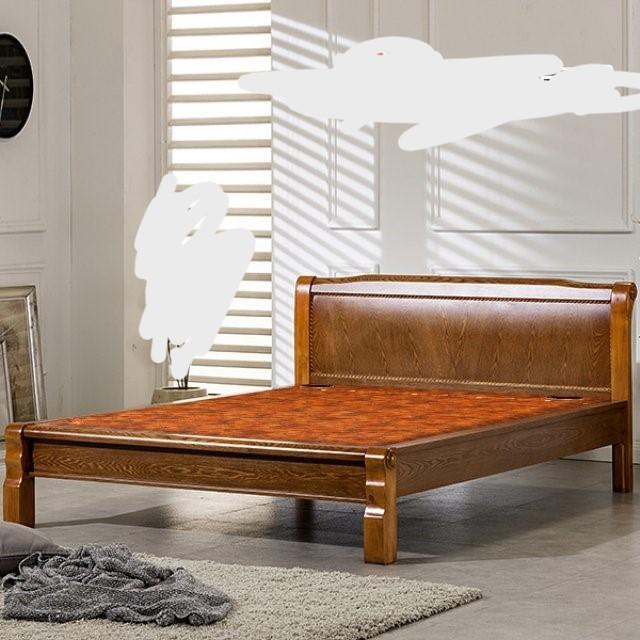Bed-Mattress: (10, 258, 623, 554)
